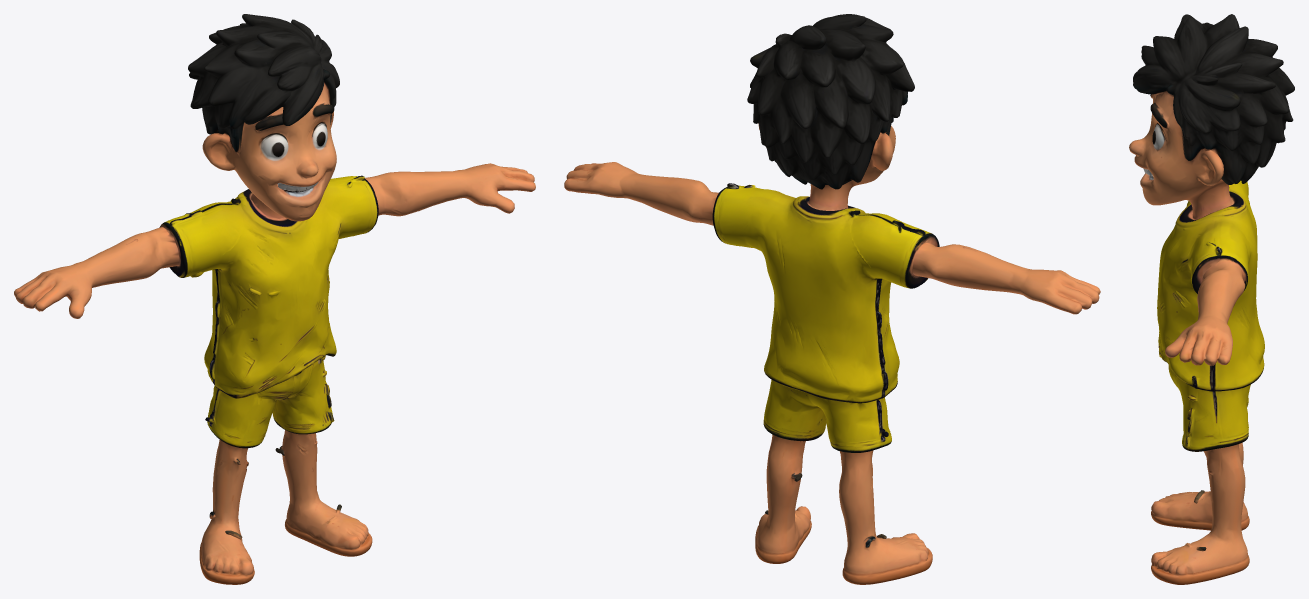
Rendered from lemonade_lee.glb.
The picture shows the model from 3 angles, left to right: view 1: azimuth 30°, elevation 25°; view 2: azimuth 150°, elevation 25°; view 3: azimuth 270°, elevation 25°; orthographic projection. The views are drawn at different scales.
Visible parts, largest first — view 1: lemonade_lee; view 2: lemonade_lee; view 3: lemonade_lee.
Part boxes in pixels (box(x1,y1,x2,y2)): lemonade_lee: box(14, 14, 535, 584); lemonade_lee: box(564, 14, 1100, 584); lemonade_lee: box(1129, 14, 1294, 584).
Size of the model in its own units: 1.77 by 1.75 by 0.5058.
Materials: 1 (1 with a texture image).
